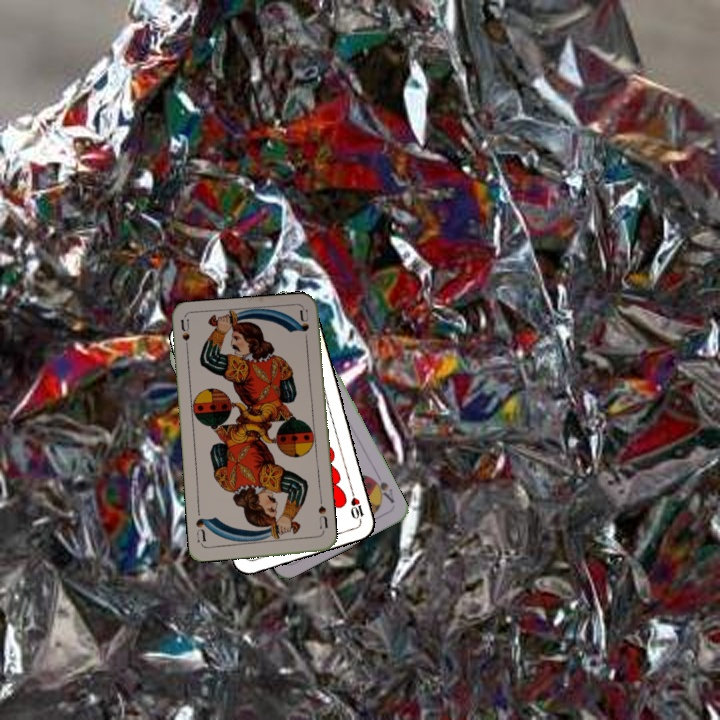H10: (346, 486, 366, 526)
SA: (368, 471, 397, 506)
SU: (177, 316, 192, 357), (314, 502, 330, 536)
